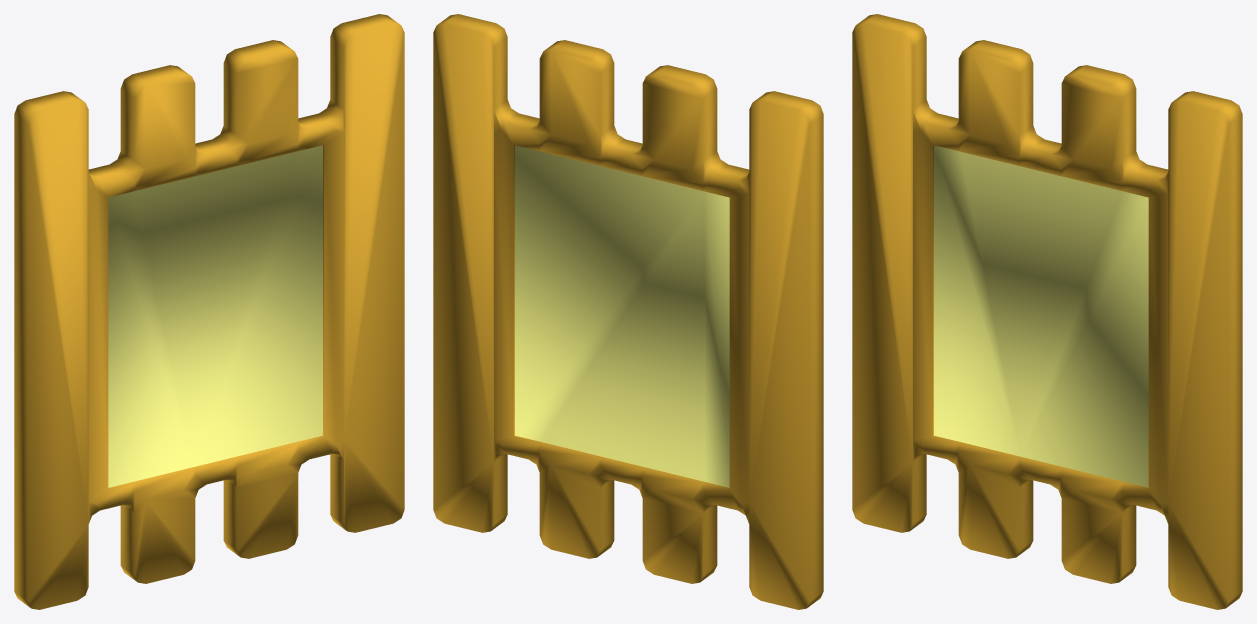
Rendered from GoldenTicket.fbx.
3 views of the same model, side by side, from view 1: azimuth 30°, elevation 25°; view 2: azimuth 150°, elevation 25°; view 3: azimuth 330°, elevation 25° (orthographic).
Visible parts, largest first — view 1: GoldenTicket; view 2: GoldenTicket; view 3: GoldenTicket.
Part boxes in pixels (x1,y1,x2,y2): GoldenTicket: (14,14,404,609); GoldenTicket: (433,14,823,609); GoldenTicket: (852,14,1242,609).
Bounding box in the file's own units: 2.57 × 0.1644 × 3.26.
